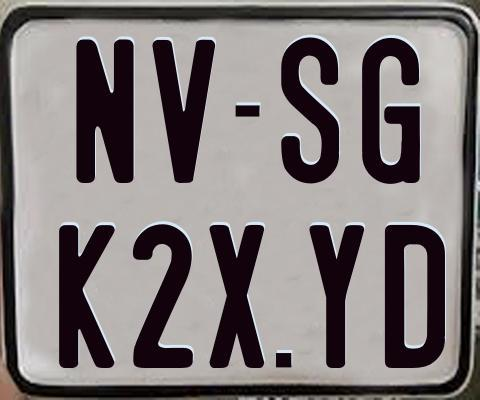2: (132, 224, 194, 368)
D: (384, 225, 445, 371)
G: (361, 38, 419, 185)
K: (56, 224, 115, 369)
N: (75, 38, 134, 183)
S: (279, 35, 341, 187)
V: (149, 39, 213, 188)
X: (206, 225, 263, 369)
Y: (306, 225, 361, 368)
